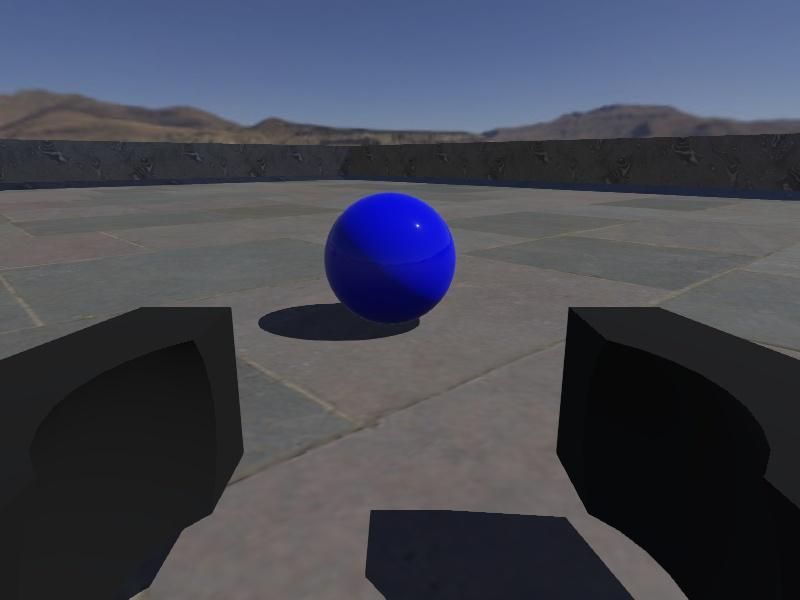blue ball: (323, 192, 457, 325)
